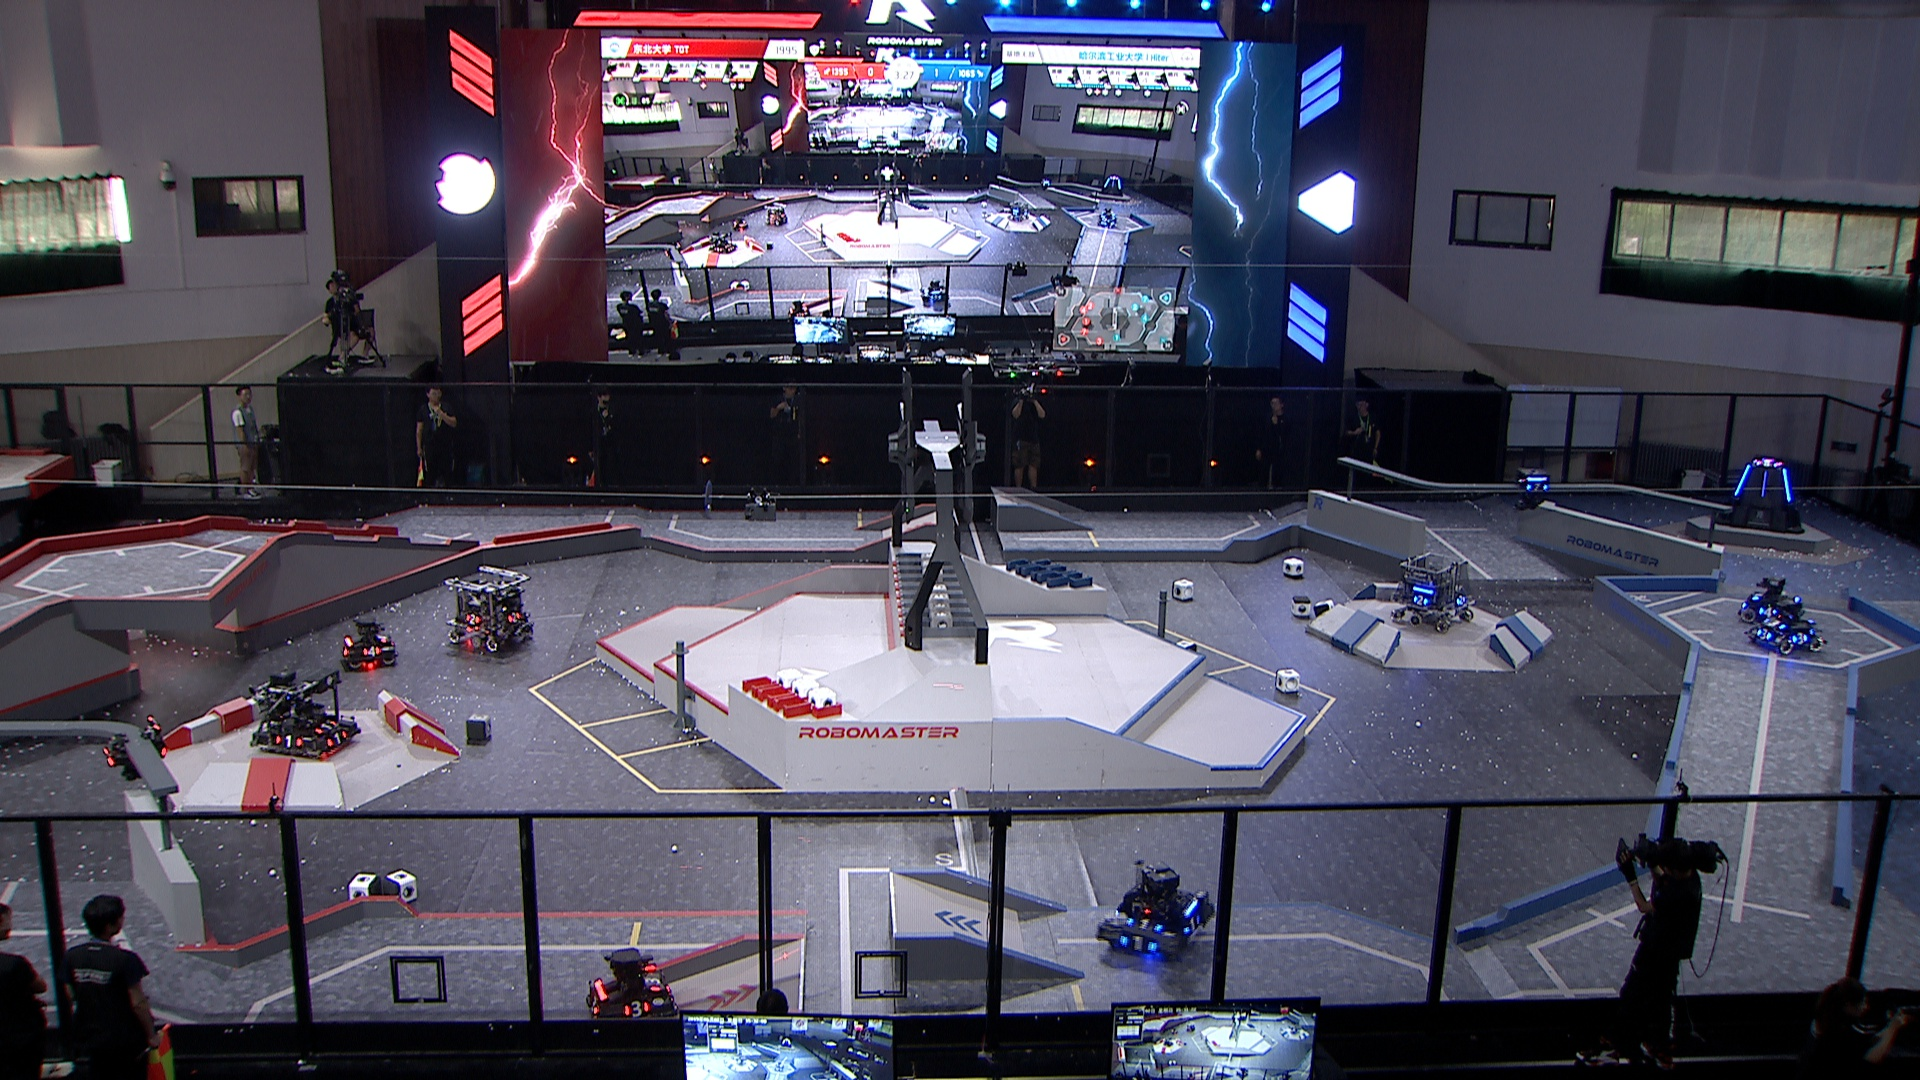armor: (1116, 934, 1159, 956), (618, 997, 651, 1021), (1125, 913, 1162, 932), (1733, 462, 1753, 496), (320, 725, 347, 750), (311, 713, 338, 737), (1182, 910, 1204, 936), (272, 733, 306, 750), (644, 969, 666, 994), (100, 744, 119, 771), (1524, 477, 1552, 495), (584, 992, 604, 1015), (1760, 615, 1787, 632), (1780, 465, 1792, 502), (460, 609, 483, 628), (1410, 589, 1432, 608), (504, 607, 524, 626), (1755, 626, 1775, 646), (1759, 465, 1771, 496), (1789, 632, 1811, 647), (361, 645, 382, 659), (375, 628, 390, 646), (1452, 591, 1468, 608), (1756, 604, 1776, 617), (1753, 588, 1766, 603)
base: (1709, 456, 1807, 537)
car: (1096, 858, 1221, 964), (243, 670, 359, 760), (444, 566, 538, 654), (585, 945, 679, 1025), (1390, 549, 1476, 629), (1746, 597, 1826, 655), (1738, 571, 1808, 622), (334, 618, 401, 671)
ignore: (920, 278, 953, 309), (704, 225, 735, 256), (761, 202, 790, 229), (1005, 199, 1030, 223), (1100, 171, 1124, 196), (1753, 456, 1784, 469)
watcher: (98, 711, 171, 785), (1514, 465, 1556, 513)
